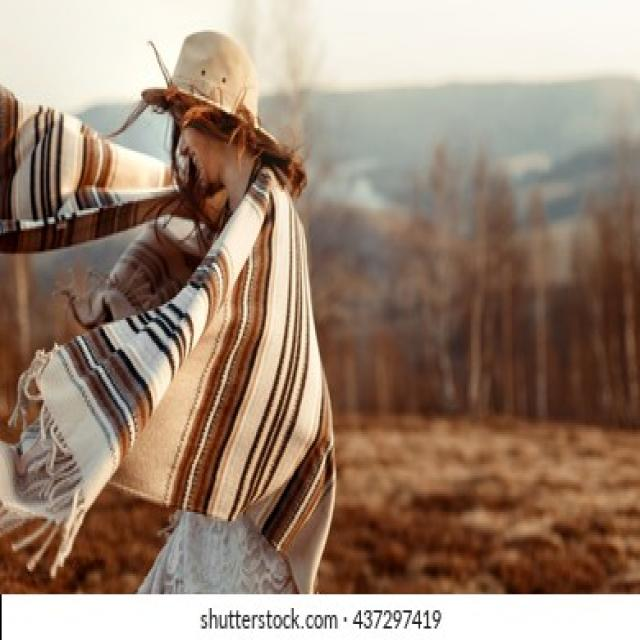hat: (146, 30, 289, 185)
